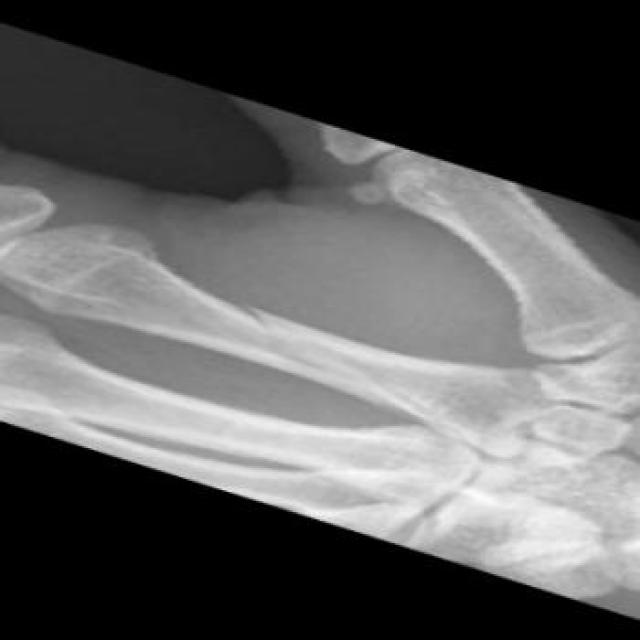Fracture: (236, 302, 311, 376)
